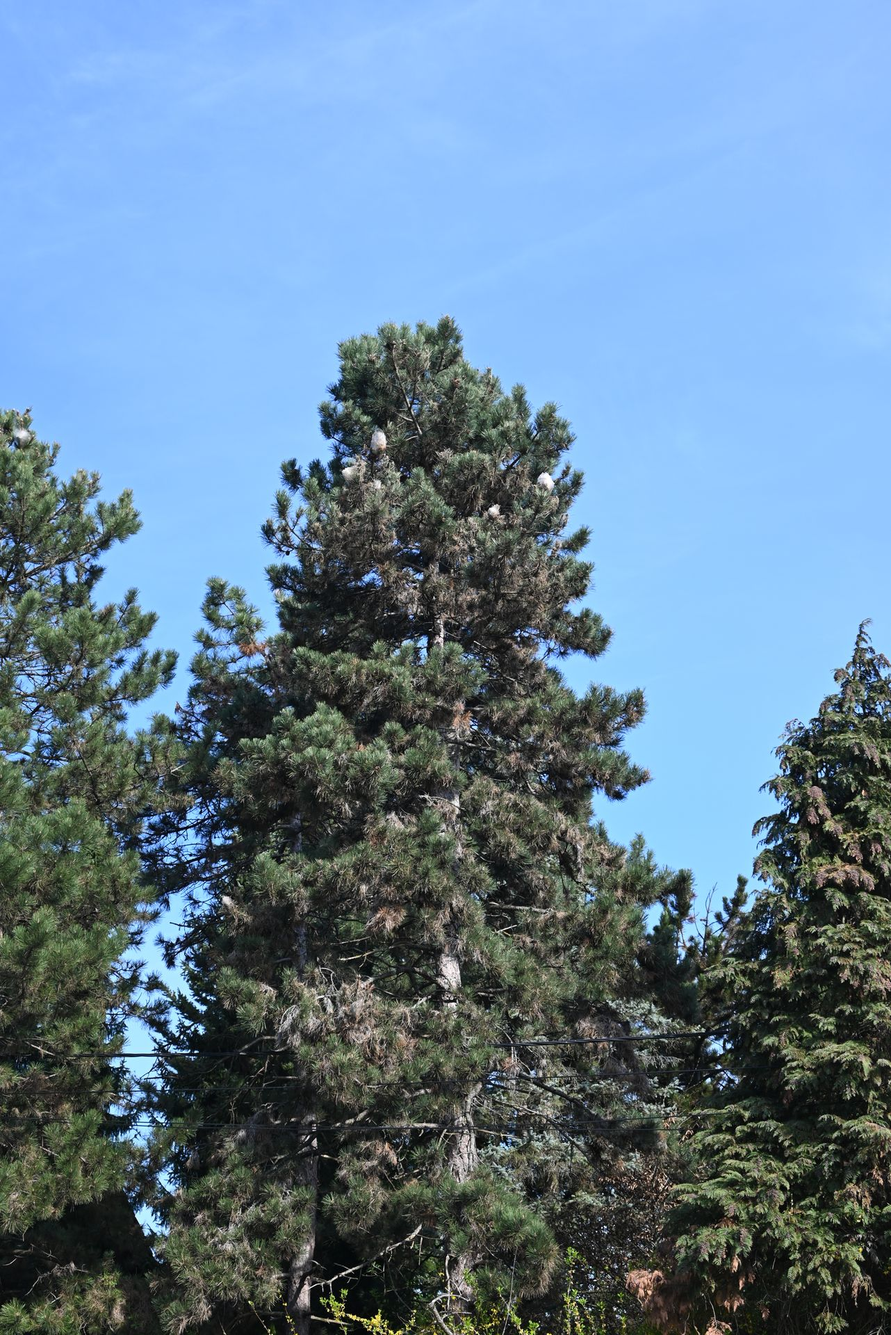thaumatopoea pityocampa jajno gnijezdo: (533, 463, 558, 497), (366, 426, 393, 455), (335, 458, 360, 489), (481, 499, 509, 521), (10, 421, 29, 448)
